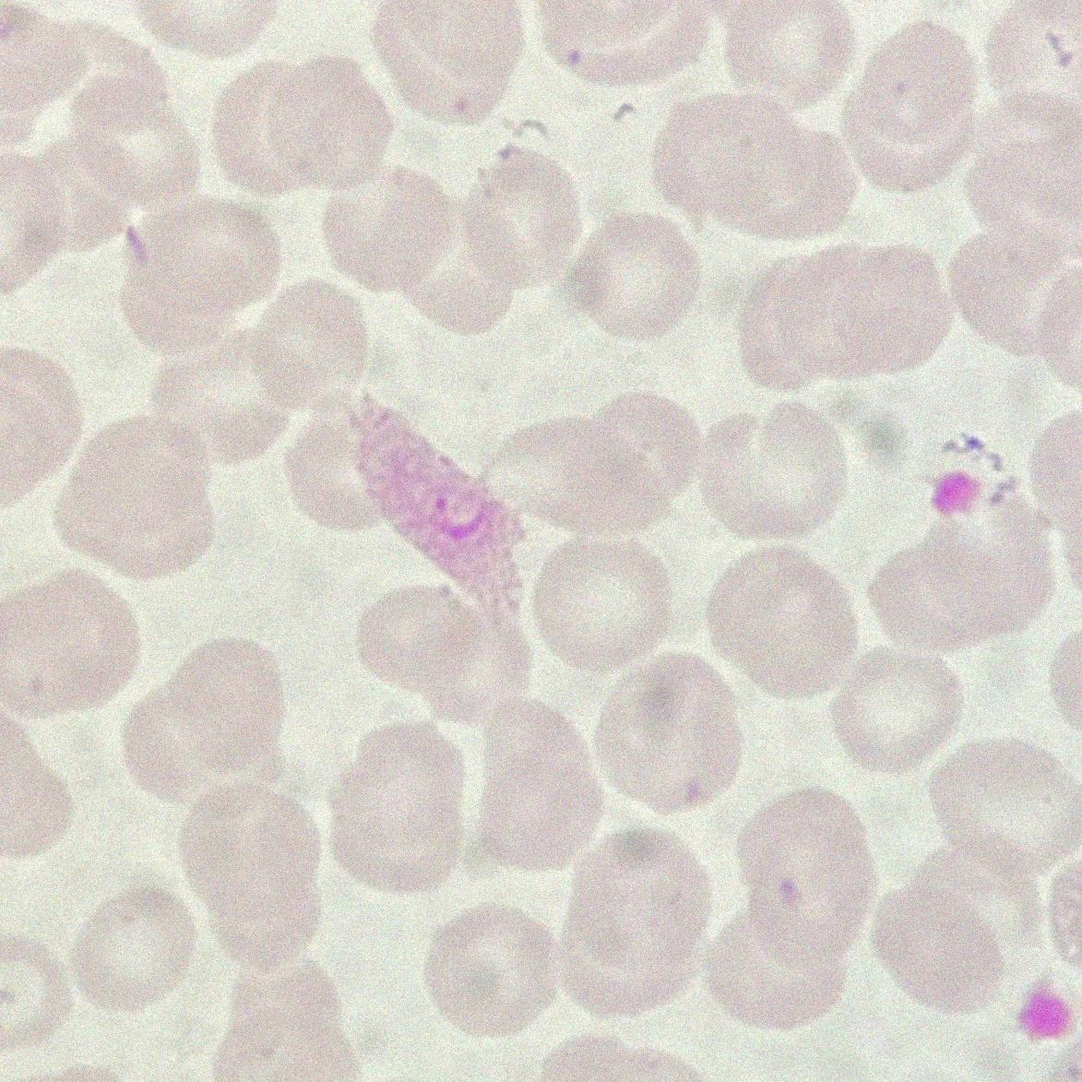Infected: (354, 401, 526, 619)
Uninfected: (739, 244, 945, 390), (562, 824, 719, 1013), (496, 397, 703, 538), (120, 198, 281, 357), (52, 413, 213, 571), (217, 56, 392, 199), (873, 514, 1049, 655), (592, 653, 744, 814), (332, 721, 471, 892), (191, 782, 326, 957), (707, 545, 862, 697), (844, 18, 980, 189), (874, 850, 1014, 1013), (731, 788, 873, 948), (62, 55, 199, 216), (696, 402, 850, 539), (148, 343, 299, 477), (532, 537, 678, 673), (927, 738, 1072, 866), (373, 1, 522, 124), (237, 279, 372, 414), (424, 905, 566, 1033), (952, 226, 1080, 368), (708, 908, 854, 1029), (673, 87, 816, 210), (356, 585, 494, 712), (6, 138, 125, 282), (135, 677, 258, 815), (403, 198, 519, 344), (827, 651, 960, 774), (12, 576, 129, 715), (566, 216, 693, 344), (537, 0, 717, 89), (215, 960, 353, 1076), (80, 880, 201, 1012), (470, 136, 574, 288), (960, 106, 1078, 239), (719, 0, 857, 107), (472, 696, 591, 815), (326, 170, 435, 297), (286, 413, 401, 530), (4, 6, 99, 144), (166, 641, 277, 758), (982, 4, 1078, 104), (826, 391, 909, 469), (602, 829, 668, 878)
